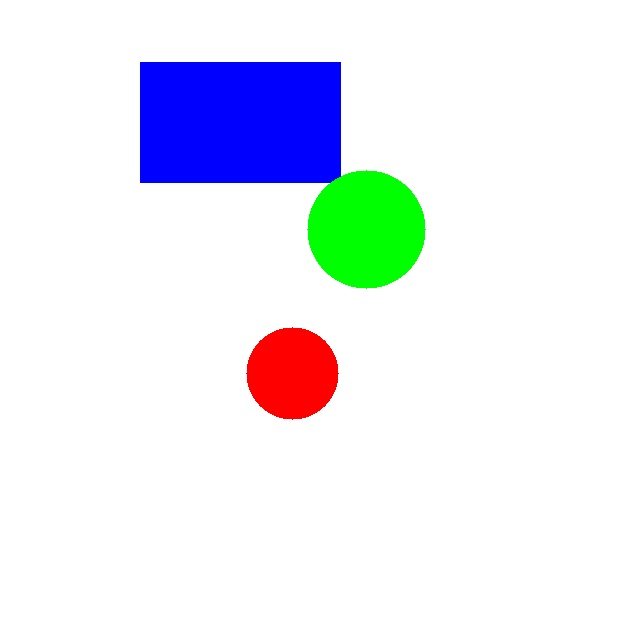cartao: (140, 62, 340, 182)
rosca_externa: (307, 170, 425, 288)
rosca_interna: (246, 327, 338, 419)
